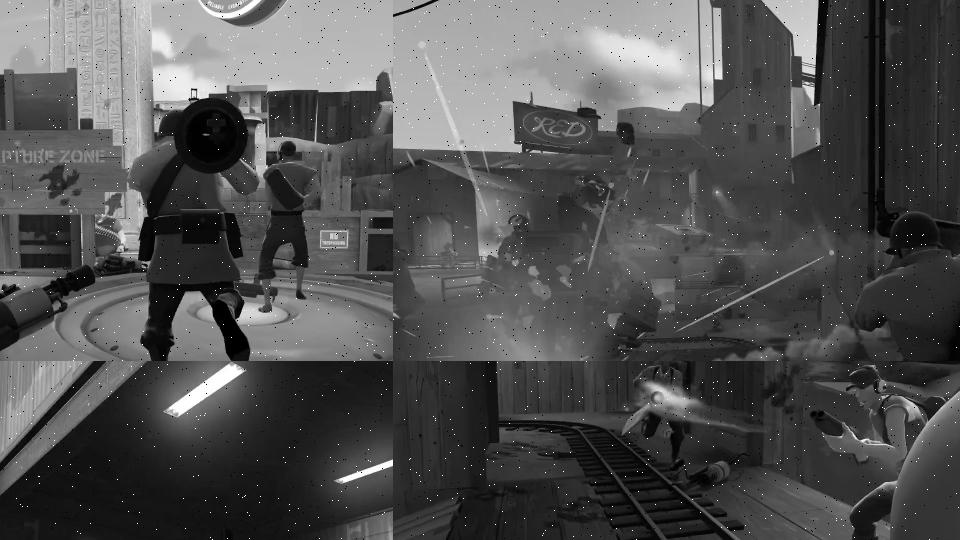Enemy: (101, 98, 284, 361), (809, 361, 947, 540), (255, 141, 322, 315), (619, 361, 688, 470), (93, 207, 127, 260)
